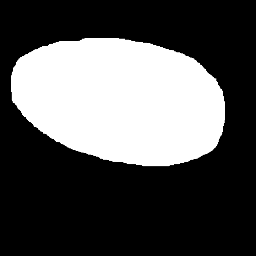mass: (10, 36, 222, 161)
